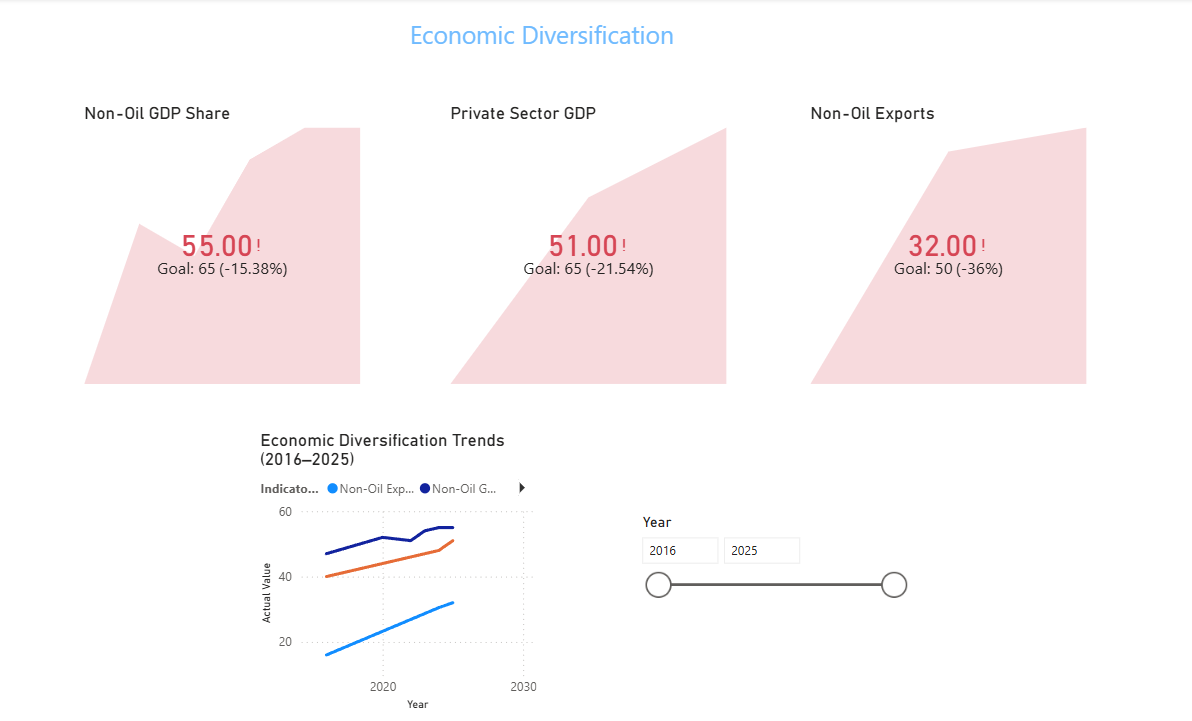

This screenshot's page, from the dashboard's own definition file:
{"tool":"powerbi","page":{"name":"Economic Diversification","canvas":[1280,720],"ordinal":0},"visuals":[{"type":"kpi","title":"Non-Oil GDP Share","fields":{"Indicator":["Facts_National_v2.Actual Value"],"TrendLine":["Facts_National_v2.Year"],"Goal":["Facts_National_v2.Target IND01"]},"box":[84.4,102.7,280,280],"z":0},{"type":"lineChart","title":"Economic Diversification Trends (2016–2025)","fields":{"Category":["Facts_National_v2.Year"],"Y":["Facts_National_v2.Actual Value"],"Series":["Indicators_v2.IndicatorName"]},"box":[256.8,421.9,280,280],"z":1000},{"type":"slicer","fields":{"Values":["Facts_National_v2.Year"]},"box":[622.4,498.9,280,150.4],"z":2000},{"type":"kpi","title":"Private Sector GDP","fields":{"Indicator":["Facts_National_v2.Actual Value"],"TrendLine":["Facts_National_v2.Year"],"Goal":["Facts_National_v2.Target IND02"]},"box":[442.7,102.7,280,280],"z":3000},{"type":"kpi","title":"Non-Oil Exports","fields":{"Indicator":["Facts_National_v2.Actual Value"],"TrendLine":["Facts_National_v2.Year"],"Goal":["Facts_National_v2.Target IND03"]},"box":[794.8,102.7,280,280],"z":4000},{"type":"textbox","box":[261.7,14.7,550.3,52.6],"z":4001}]}

Visuals, with their boxes on the page's 1280x720 design canvas (x1, y1, x2, y2). These are canvas units, not pixel positions in the 1192x721 screenshot, which may show the page scaled, cropped or inside an application window:
"Non-Oil GDP Share" kpi: rect(84, 103, 364, 383)
"Economic Diversification Trends (2016–2025)" lineChart: rect(257, 422, 537, 702)
slicer - Facts_National_v2.Year: rect(622, 499, 902, 649)
"Private Sector GDP" kpi: rect(443, 103, 723, 383)
"Non-Oil Exports" kpi: rect(795, 103, 1075, 383)
textbox: rect(262, 15, 812, 67)
